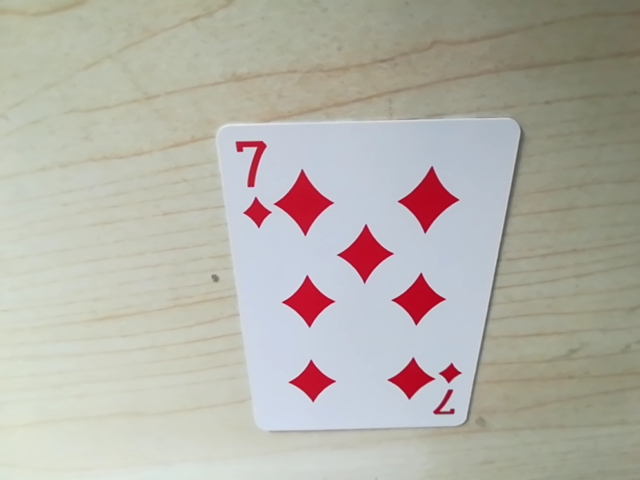fk 7: (424, 365, 465, 425), (227, 129, 274, 170)
